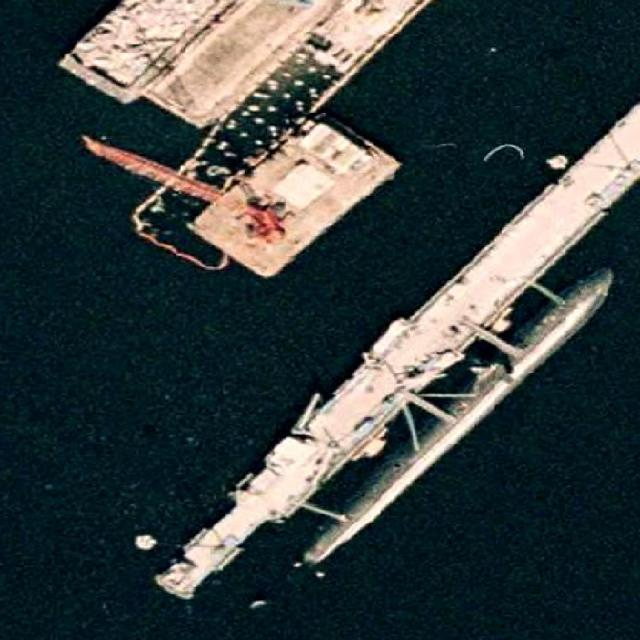Dock: (146, 140, 640, 615)
Submarine: (295, 257, 622, 571)
